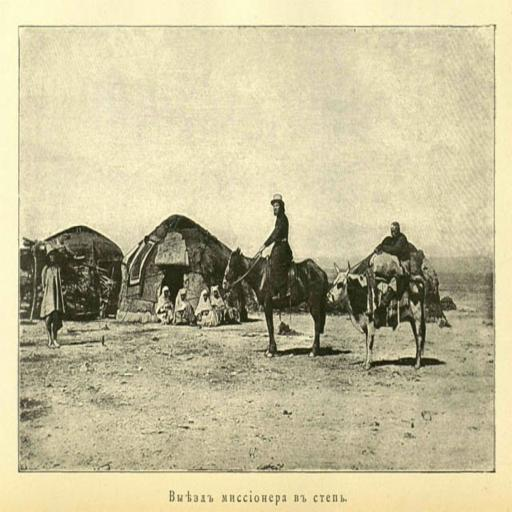horse: (222, 248, 328, 356)
